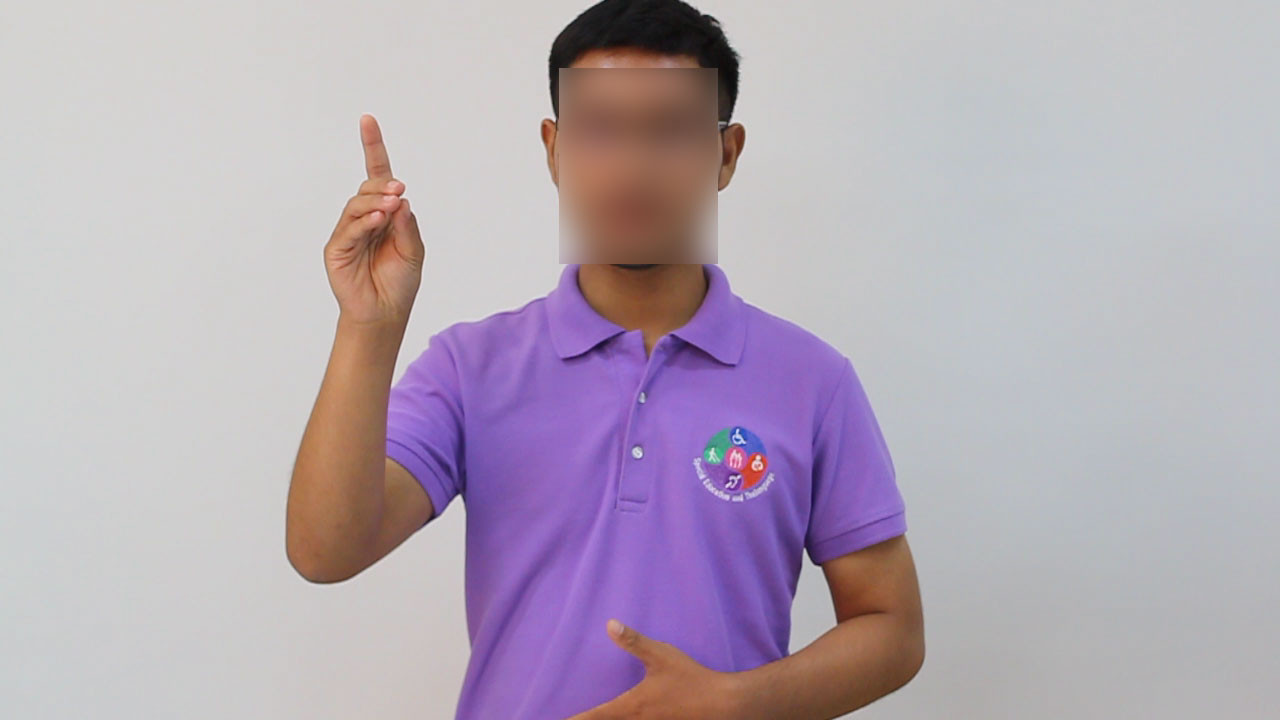dor: (319, 108, 428, 342)
